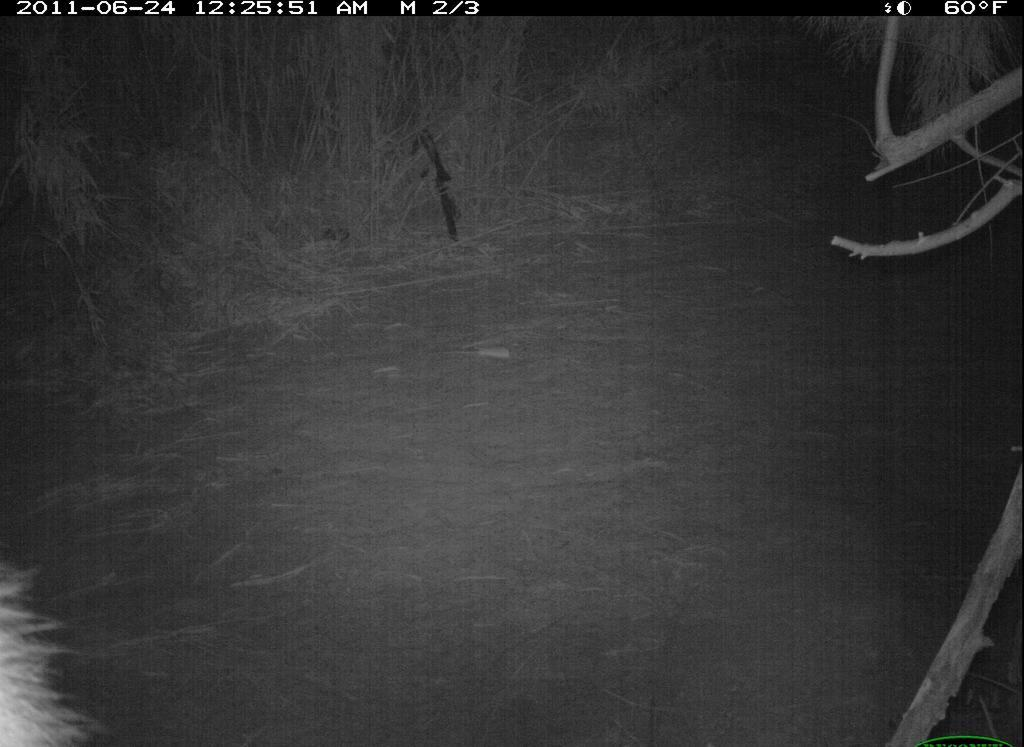raccoon: (1, 563, 118, 747)
